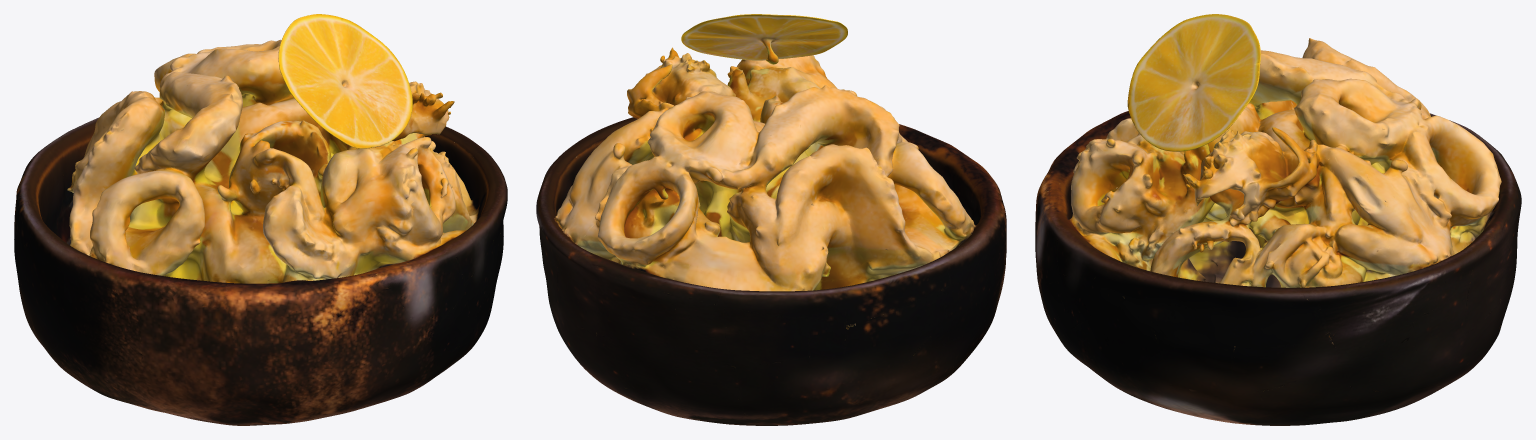
File: leaning-tower-of-pisa.glb
3 views of the same model, side by side, from view 1: azimuth 30°, elevation 25°; view 2: azimuth 150°, elevation 25°; view 3: azimuth 270°, elevation 25° (orthographic). The views are drawn at different scales.
Visible parts, largest first — view 1: Mesh_0; view 2: Mesh_0; view 3: Mesh_0.
Boxes of the visible parts, <box> form: Mesh_0: <box>14,14,507,425</box>; Mesh_0: <box>536,14,1006,425</box>; Mesh_0: <box>1035,14,1521,425</box>.
Bounding box in the file's own units: 0.057 × 0.0464 × 0.0557.
Materials: 1 (1 with a texture image).
